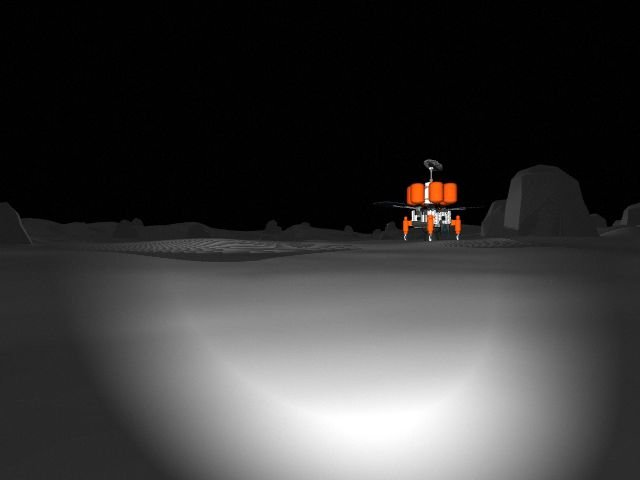homebase: (366, 156, 482, 243)
